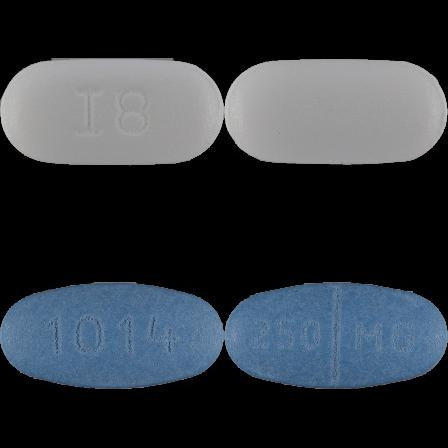21695-068: (0, 0, 224, 224)
